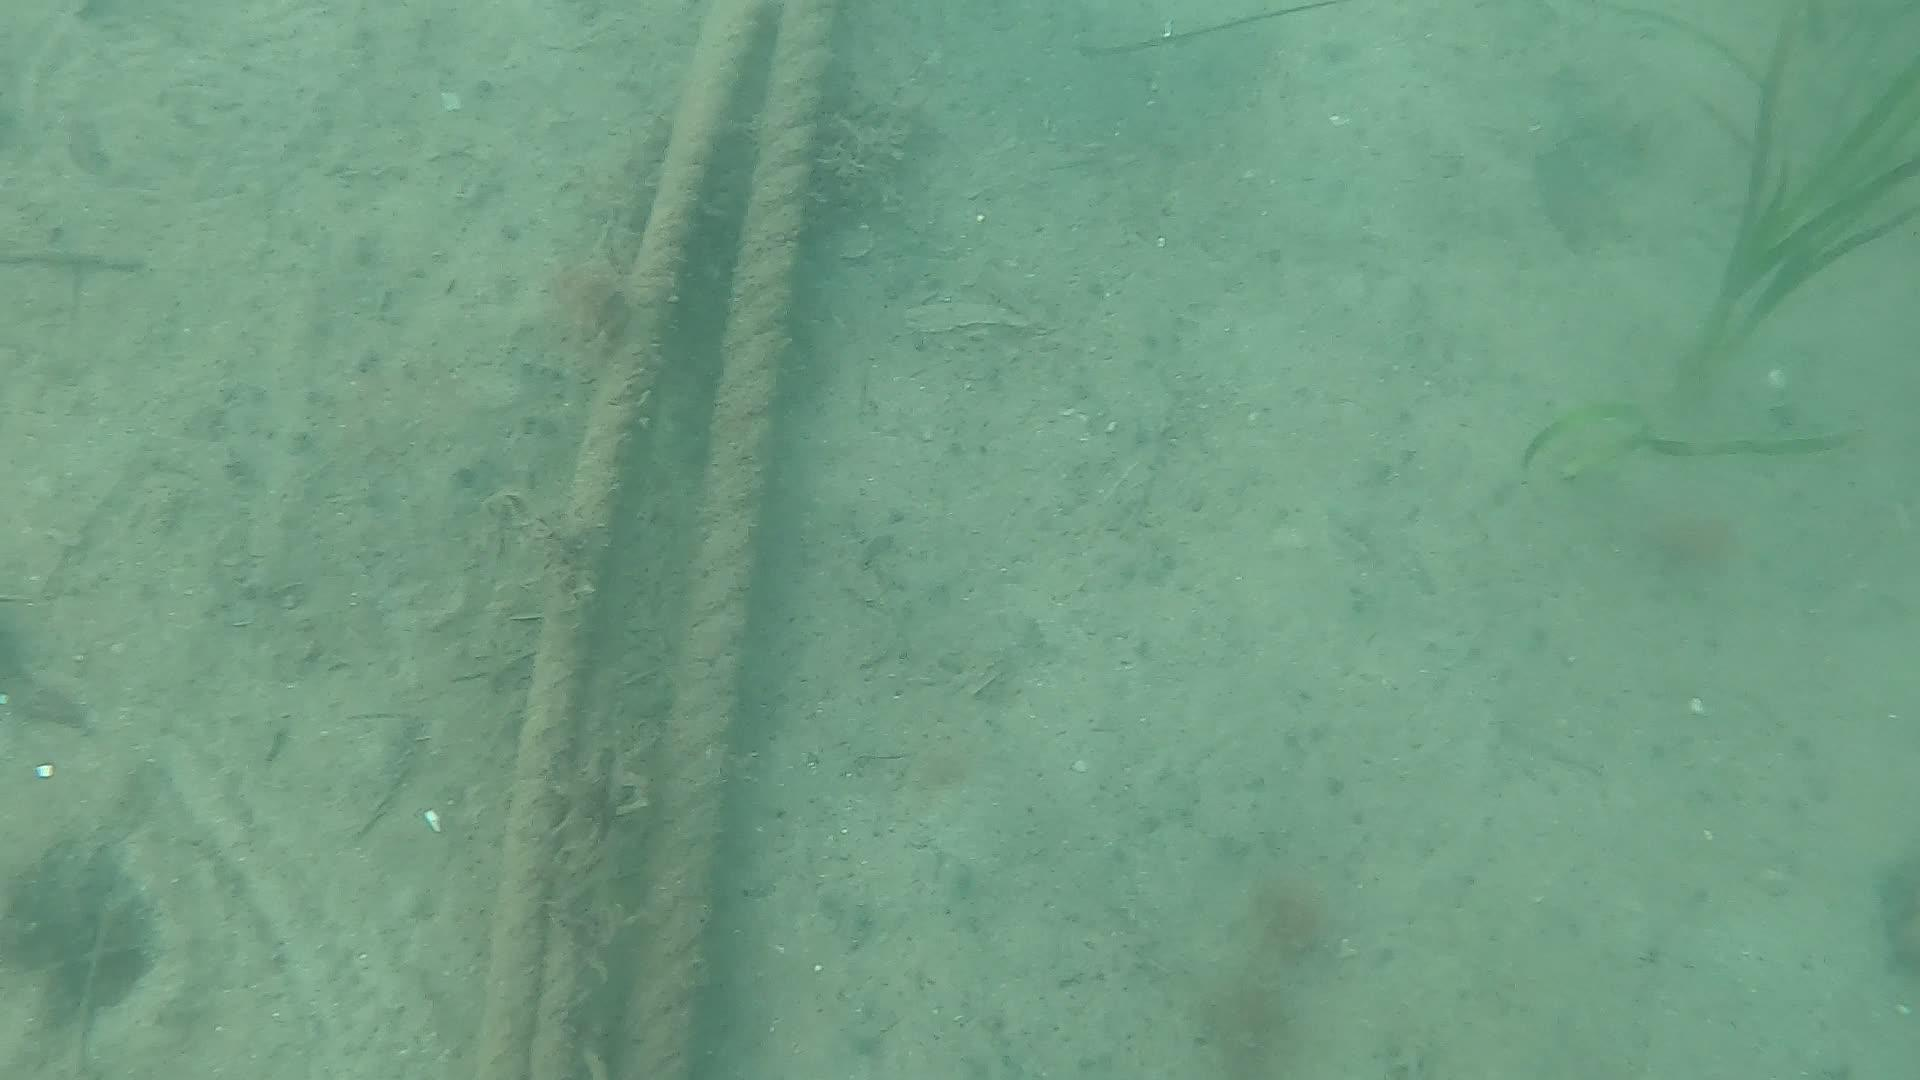rope: (473, 3, 758, 1080), (615, 0, 843, 1079)
